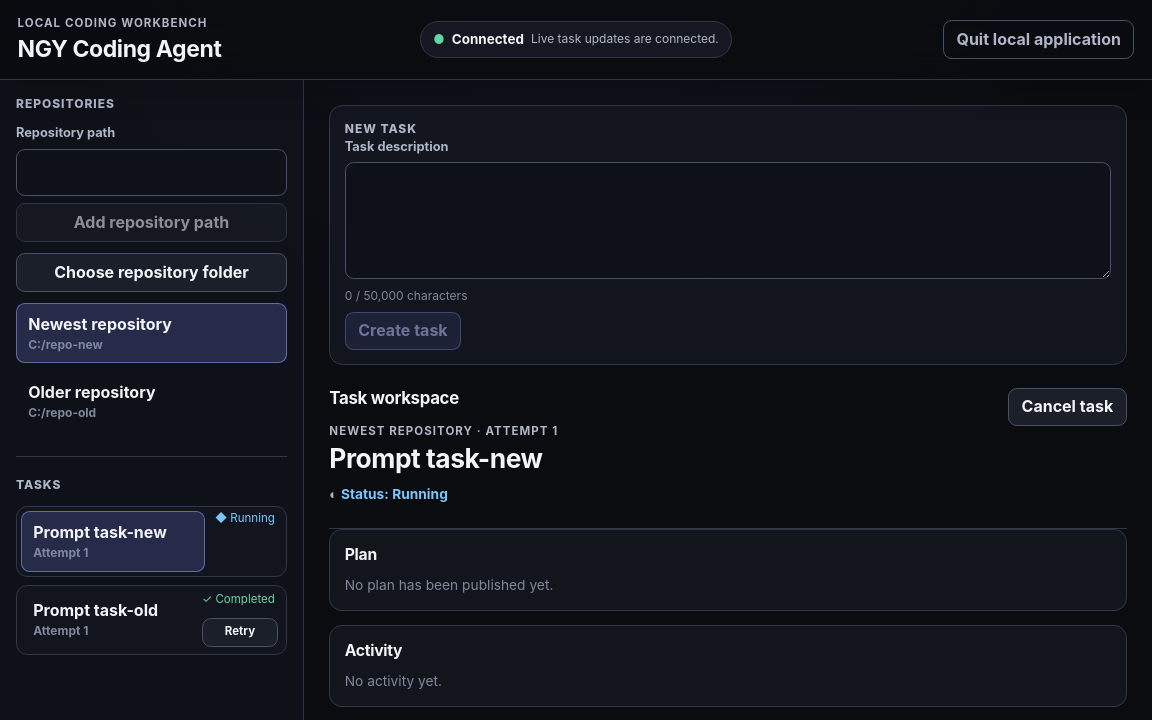
AppShell › selects a newly created task and lets repository selection expose its empty state
In the text box labelled "Task description": (728, 221) [345, 162, 1111, 279], type "  create from shell  "
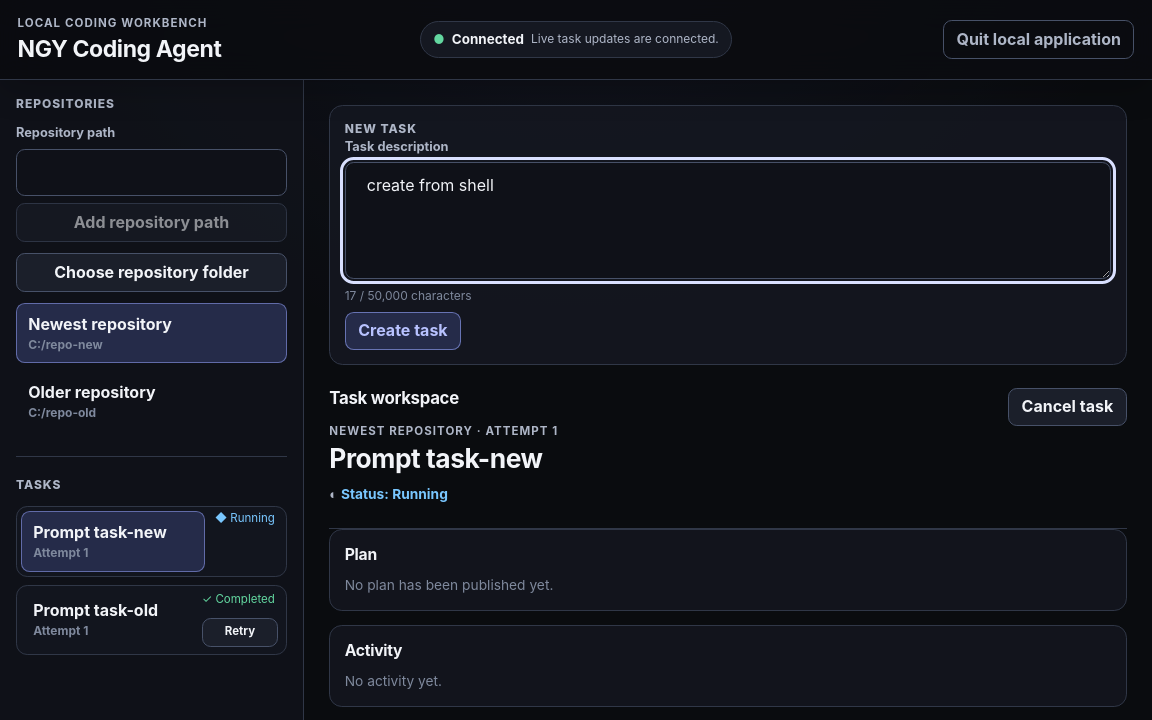
Click the button "Create task": click(403, 331) [345, 312, 461, 350]
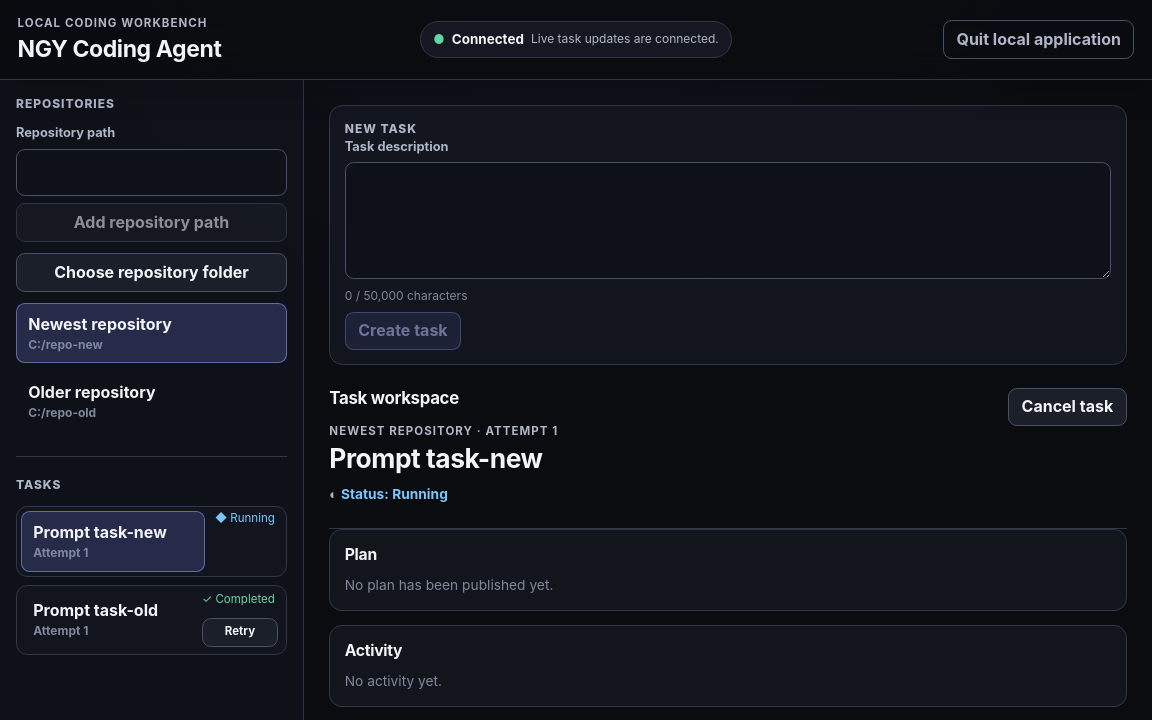
Click the button "Older repository C:/repo-old": click(152, 402) [16, 372, 287, 432]
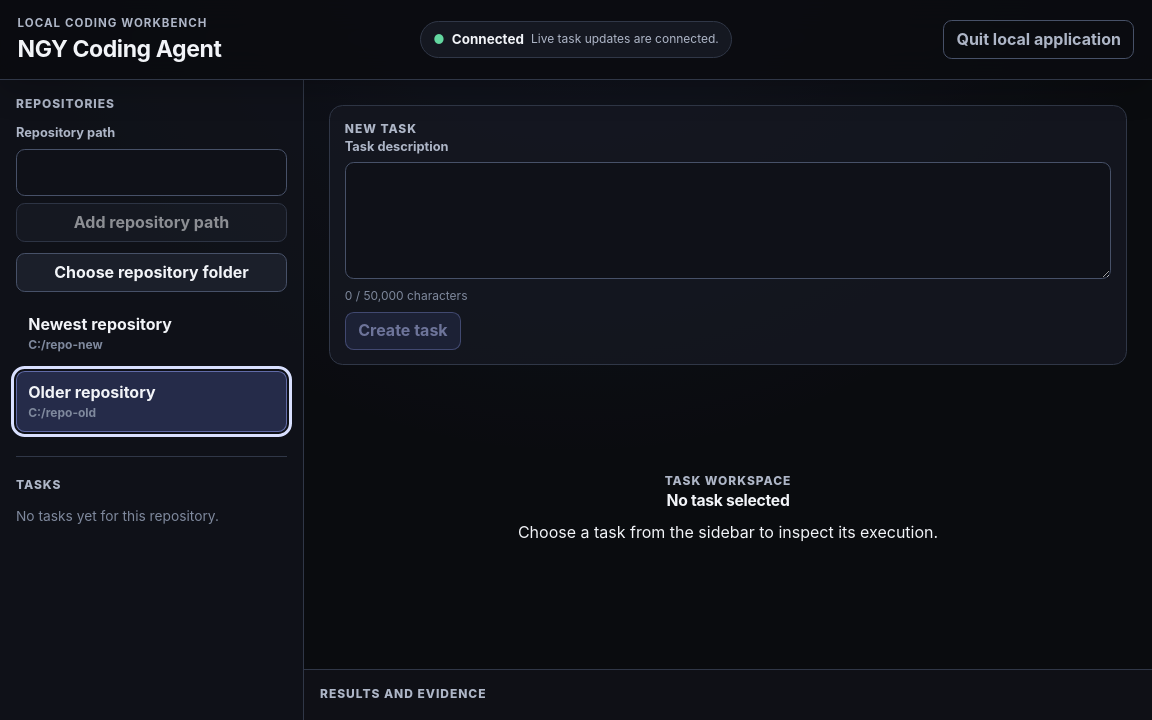
Expected: the heading "No task selected" is shown, [666, 491, 790, 510]
